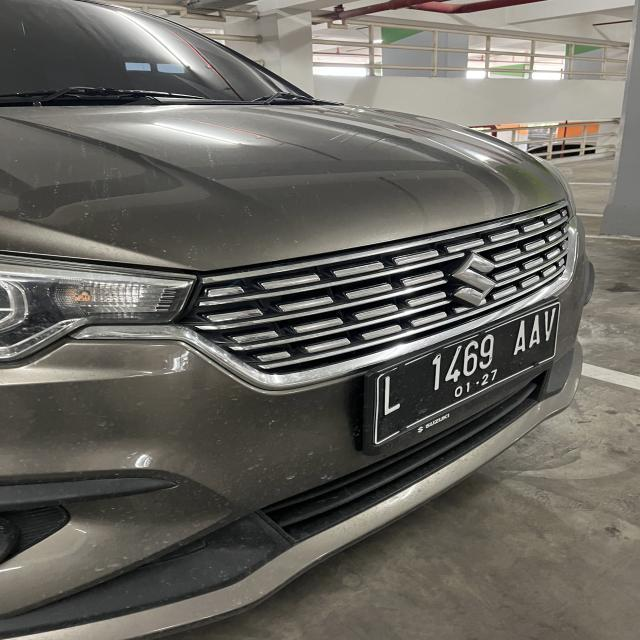1: (430, 354, 443, 389)
4: (447, 344, 462, 380)
6: (464, 340, 480, 376)
9: (479, 336, 494, 369)
A: (512, 318, 526, 354), (528, 316, 540, 348)
L: (380, 376, 406, 418)
V: (542, 308, 556, 340)
